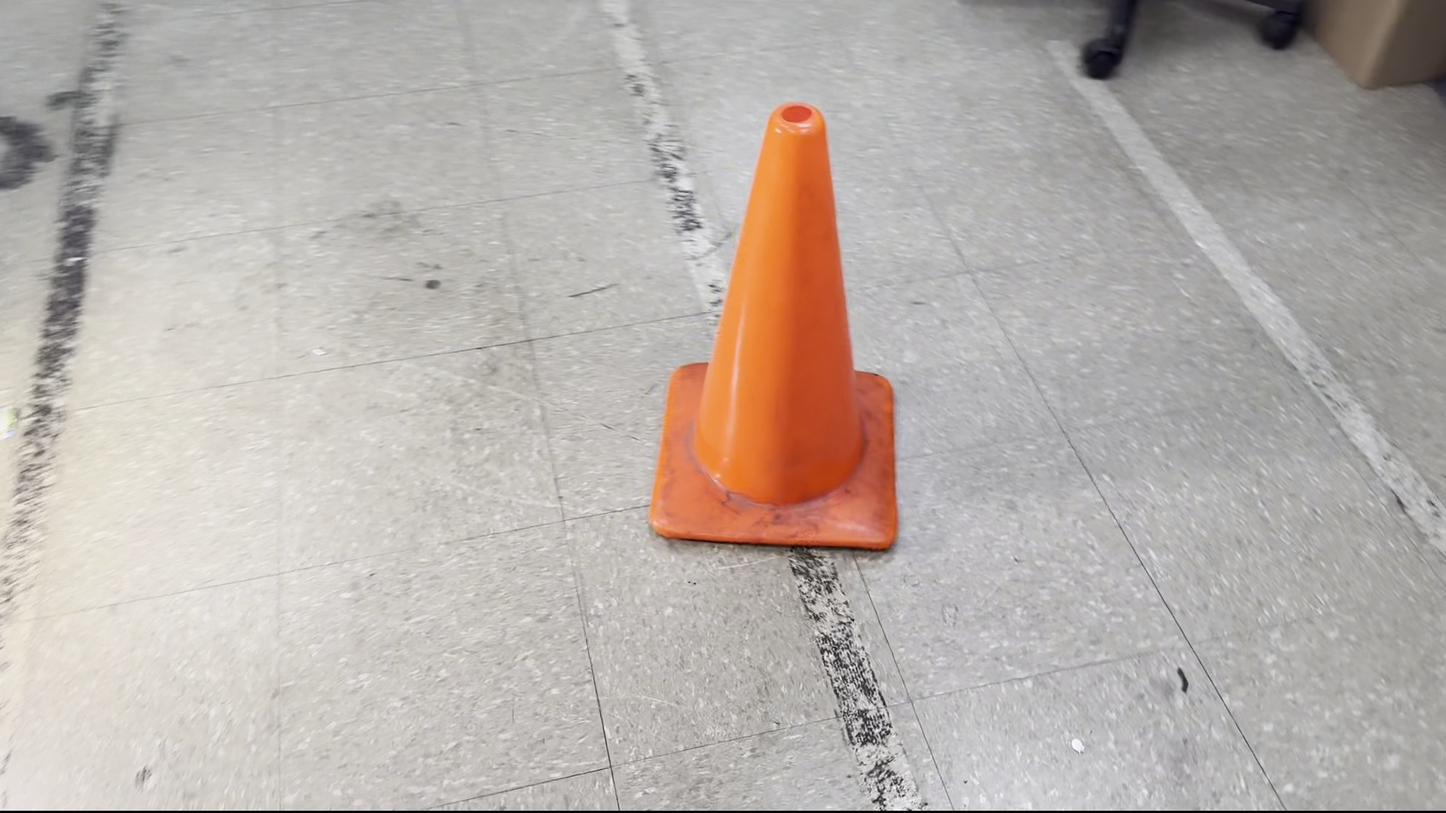traffic_cone: (648, 101, 899, 551)
